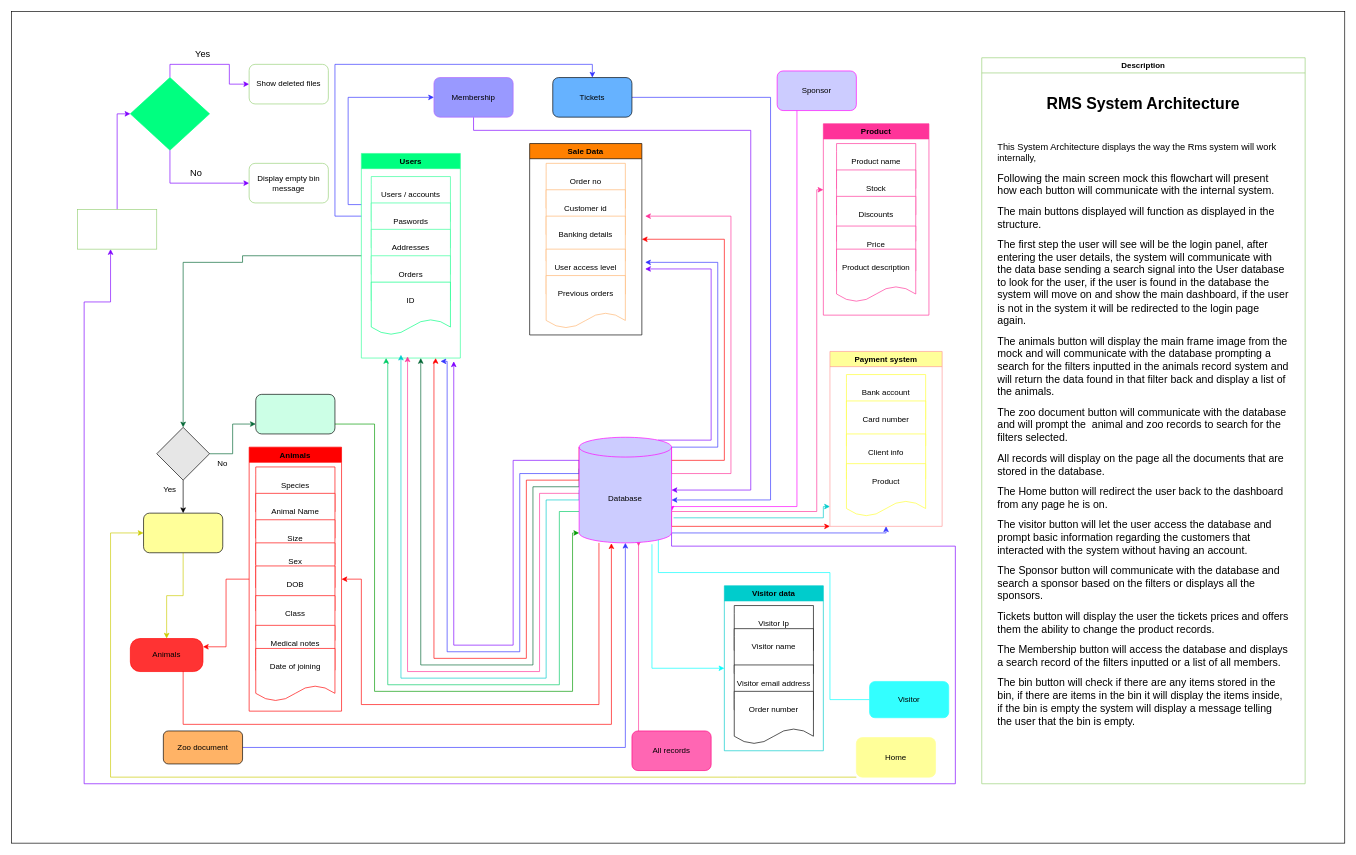
The diagram is 1356 pixels wide and 855 high, and some of its shapes have lost their labels. Each missing label, with the centre of its shape:
"Are there any files inside?" belongs at (x=170, y=113).
"Bin" belongs at (x=117, y=229).
"Login sucessfull" belongs at (x=183, y=453).
"main page / login" belongs at (x=295, y=414).
"System menu" belongs at (x=183, y=532).
